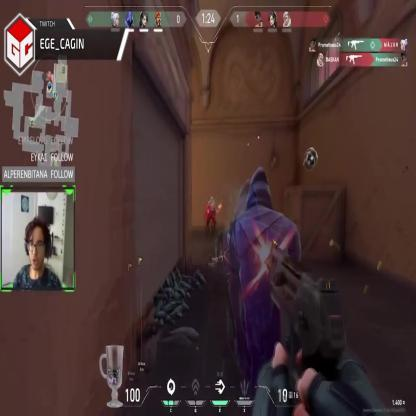enemy: (206, 198, 217, 236)
enemy_head: (210, 196, 214, 204)
